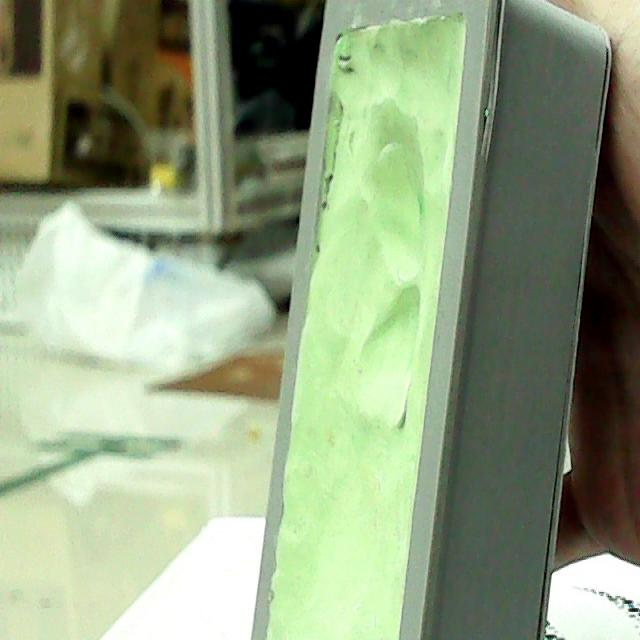block: (239, 0, 613, 640)
